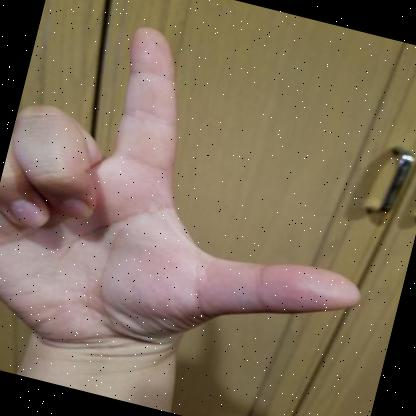L: (0, 27, 361, 383)
